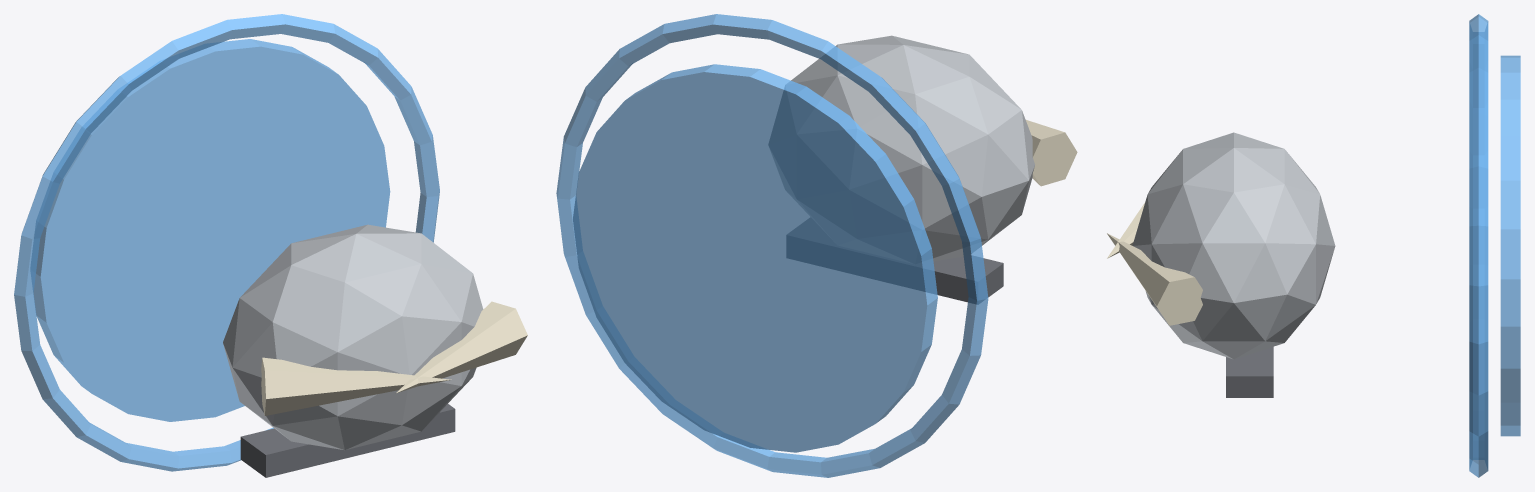
Rendered from armor_pickup_horned_helmet_rare.glb.
The picture shows the model from 3 angles, left to right: view 1: azimuth 30°, elevation 25°; view 2: azimuth 150°, elevation 25°; view 3: azimuth 270°, elevation 25°; orthographic projection. The views are drawn at different scales.
Visible parts, largest first — view 1: rarity_base_disc, helmet_dome, rarity_orbit_ring, horn_l, visor, horn_r; view 2: rarity_base_disc, helmet_dome, rarity_orbit_ring, visor, horn_l; view 3: helmet_dome, rarity_orbit_ring, rarity_base_disc, horn_r, visor, horn_l.
Boxes of the visible parts, <box> form: rarity_base_disc: <box>31,39,390,421</box>; helmet_dome: <box>223,224,483,450</box>; rarity_orbit_ring: <box>14,14,439,471</box>; horn_l: <box>261,357,451,415</box>; visor: <box>240,404,455,477</box>; horn_r: <box>396,301,527,393</box>; rarity_base_disc: <box>573,64,937,452</box>; helmet_dome: <box>769,35,1034,263</box>; rarity_orbit_ring: <box>556,14,988,477</box>; visor: <box>787,218,1003,304</box>; horn_l: <box>1026,120,1077,186</box>; helmet_dome: <box>1132,132,1335,359</box>; rarity_orbit_ring: <box>1469,14,1488,477</box>; rarity_base_disc: <box>1500,55,1520,436</box>; horn_r: <box>1107,233,1202,325</box>; visor: <box>1226,346,1273,397</box>; horn_l: <box>1107,202,1145,258</box>.
Size of the model in its own units: 1.17 by 1.17 by 1.04.
